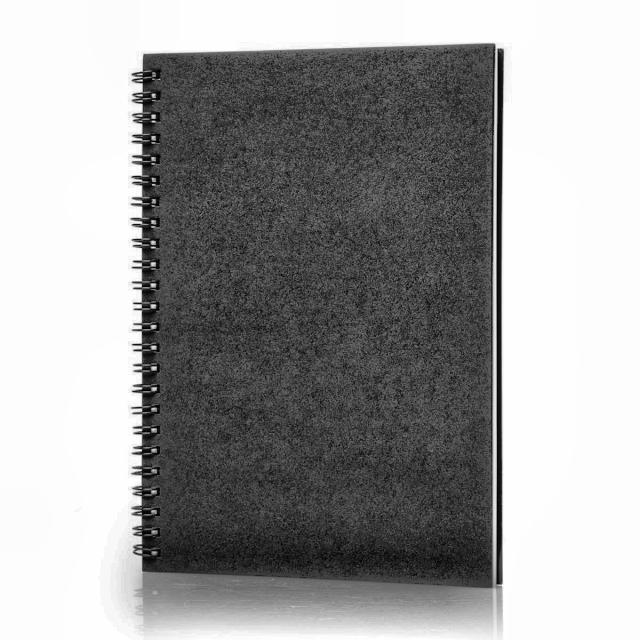Notebook: (98, 23, 528, 610)
